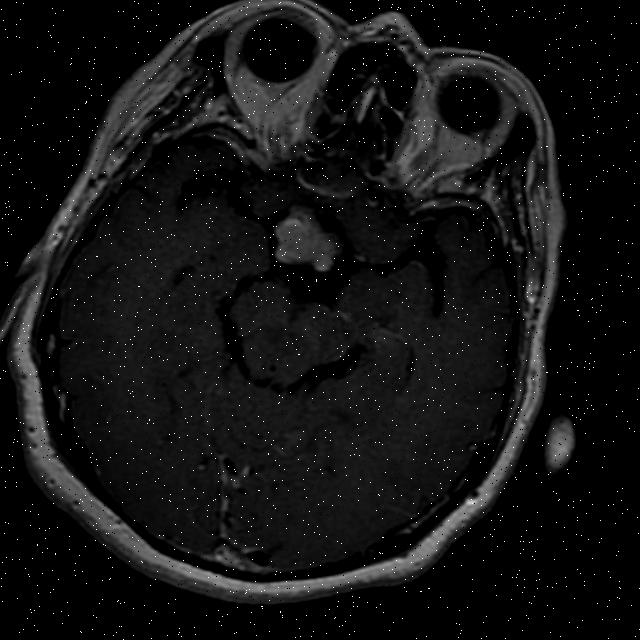Pituitary: (267, 201, 352, 275)
